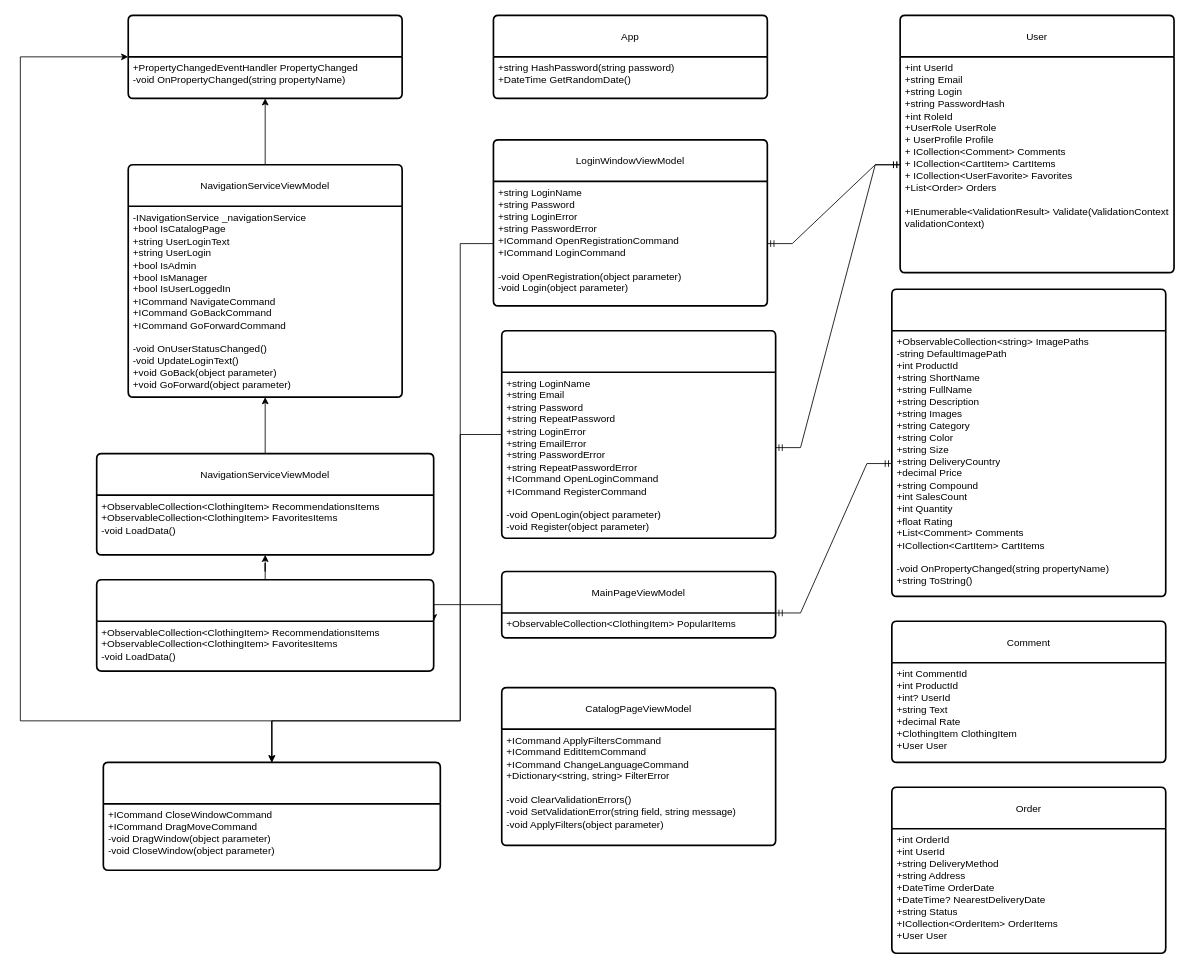
Some shapes in this 1189 by 968 pixel diagram are drawn without their labels. Each missing label, with the box of its shape:
BaseViewModel: (127, 14, 403, 99)
BaseWindowViewModel: (102, 761, 441, 871)
ClothingItem: (891, 288, 1166, 597)
RecomendationViewModel: (95, 579, 434, 671)
RegisterWindowViewModel: (500, 330, 776, 539)
